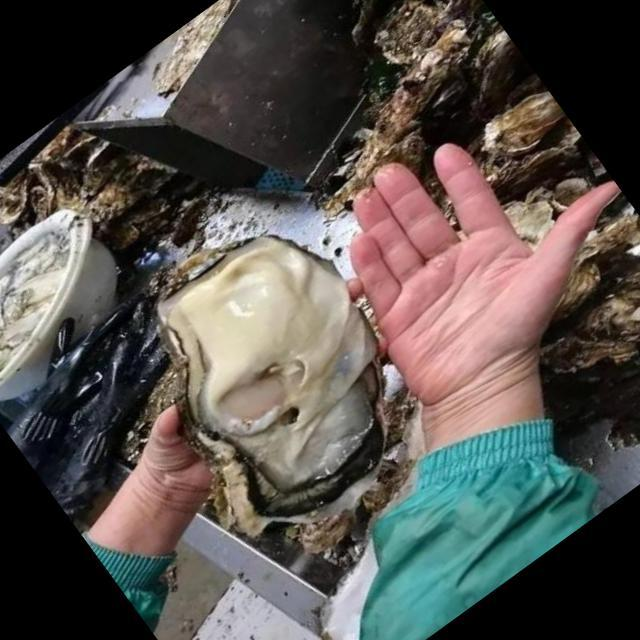Oyster-Open: (104, 195, 442, 548)
